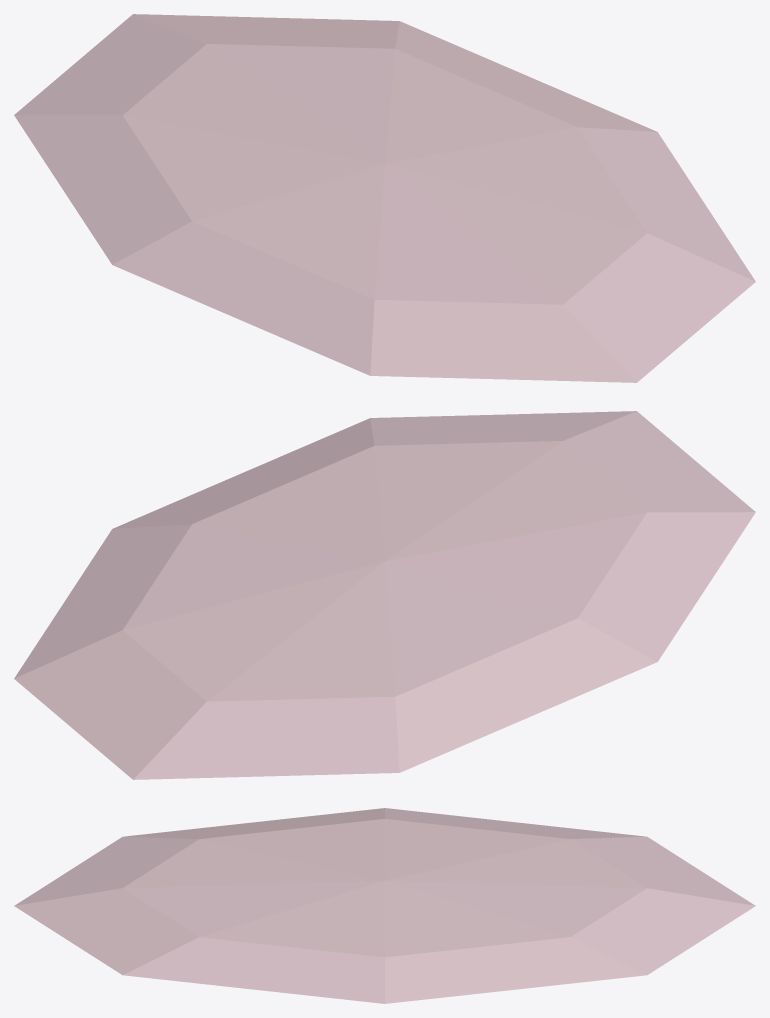
The model's file is cherry-petal.glb.
The picture shows the model from 3 angles, top to bottom: view 1: azimuth 30°, elevation 25°; view 2: azimuth 150°, elevation 25°; view 3: azimuth 270°, elevation 25°; orthographic projection. The views are drawn at different scales.
Parts seen in each view (by area): view 1: Falling cherry petal; view 2: Falling cherry petal; view 3: Falling cherry petal.
Part boxes in pixels (x1=…): Falling cherry petal: x1=14, y1=14, x2=755, y2=382; Falling cherry petal: x1=14, y1=411, x2=755, y2=779; Falling cherry petal: x1=14, y1=808, x2=755, y2=1003.
Bounding box in the file's own units: 0.05 × 0.006 × 0.08.
